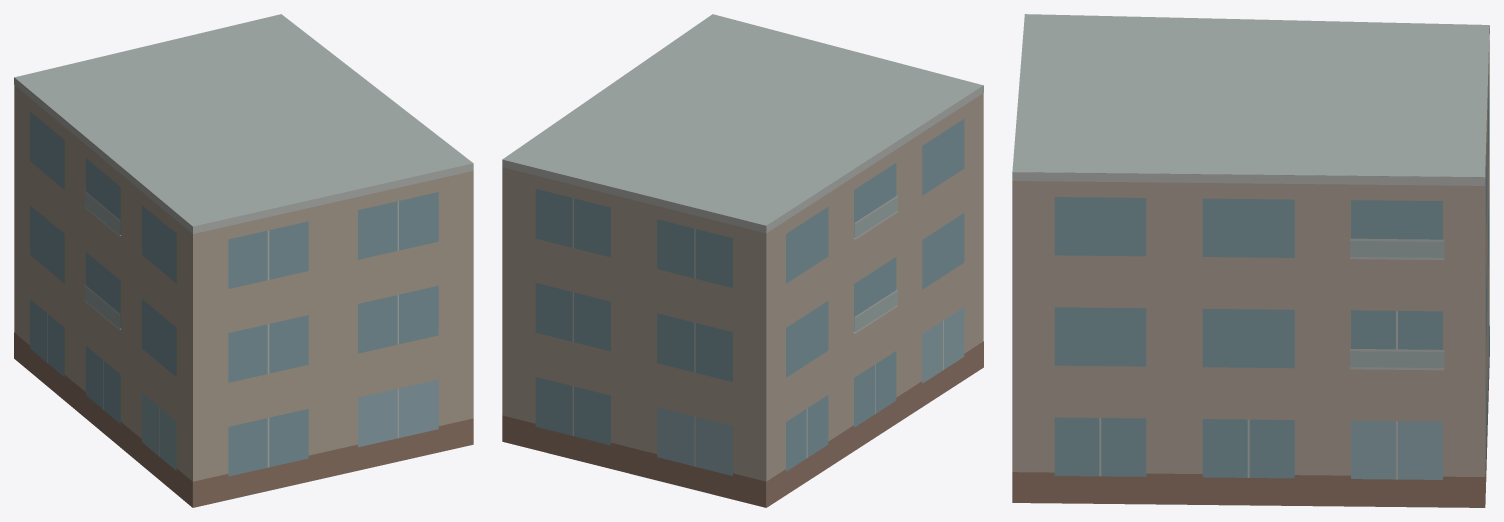
The model's file is survey-upis-32995784.glb.
The picture shows the model from 3 angles, left to right: view 1: azimuth 30°, elevation 25°; view 2: azimuth 150°, elevation 25°; view 3: azimuth 270°, elevation 25°; orthographic projection. The views are drawn at different scales.
Visible parts, largest first — view 1: survey-upis-32995784.tmp; view 2: survey-upis-32995784.tmp; view 3: survey-upis-32995784.tmp.
Boxes of the visible parts, x1,y1,x2,y2 form: survey-upis-32995784.tmp: (14, 14, 473, 507); survey-upis-32995784.tmp: (502, 14, 983, 507); survey-upis-32995784.tmp: (1012, 14, 1489, 507).
Bounding box in the file's own units: 9.7 × 9.15 × 11.98.
